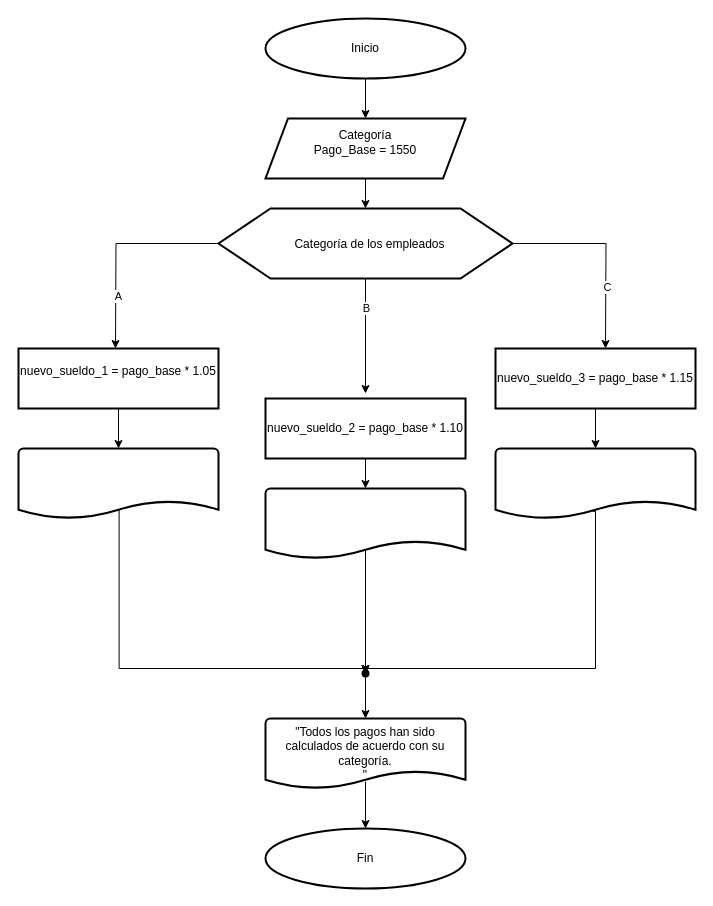
Some shapes in this 713 by 906 pixel diagram are drawn without their labels. The centre of each missing label's shape, as x and y in pixels:
"El nuevo sueldo con aumento del 10% es de", nuevo_sueldo_2: (x=365, y=523)
"El nuevo sueldo con aumento del 15% es de", nuevo_sueldo_3: (x=595, y=483)
"El nuevo sueldo con aumento del 5% es de", nuevo_sueldo_1: (x=118, y=483)
